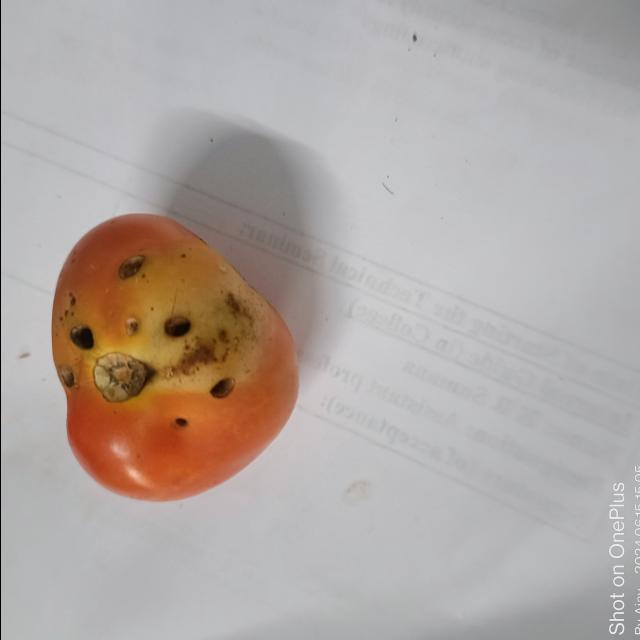fruitworm_bore: (165, 378, 243, 434), (54, 323, 92, 391), (156, 306, 200, 344), (115, 256, 153, 289)
